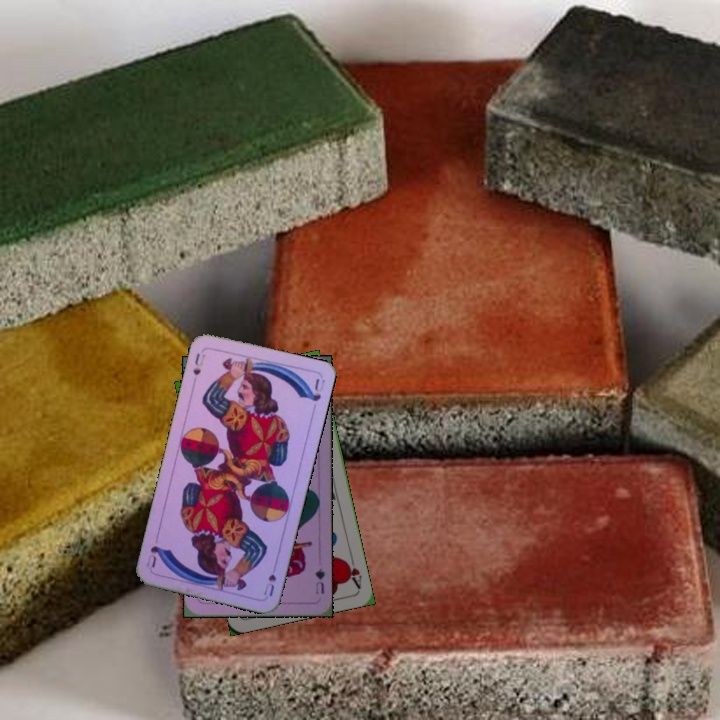GU: (311, 564, 327, 597)
HA: (341, 551, 364, 591)
SU: (260, 558, 279, 599), (189, 349, 207, 386)
